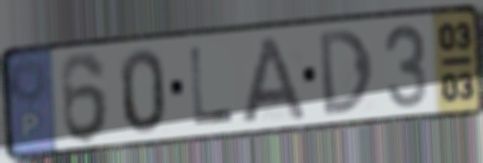0: (117, 45, 169, 138)
3: (383, 22, 429, 110)
6: (58, 48, 111, 146)
A: (239, 34, 310, 126)
D: (315, 26, 376, 119)
L: (186, 44, 237, 128)
